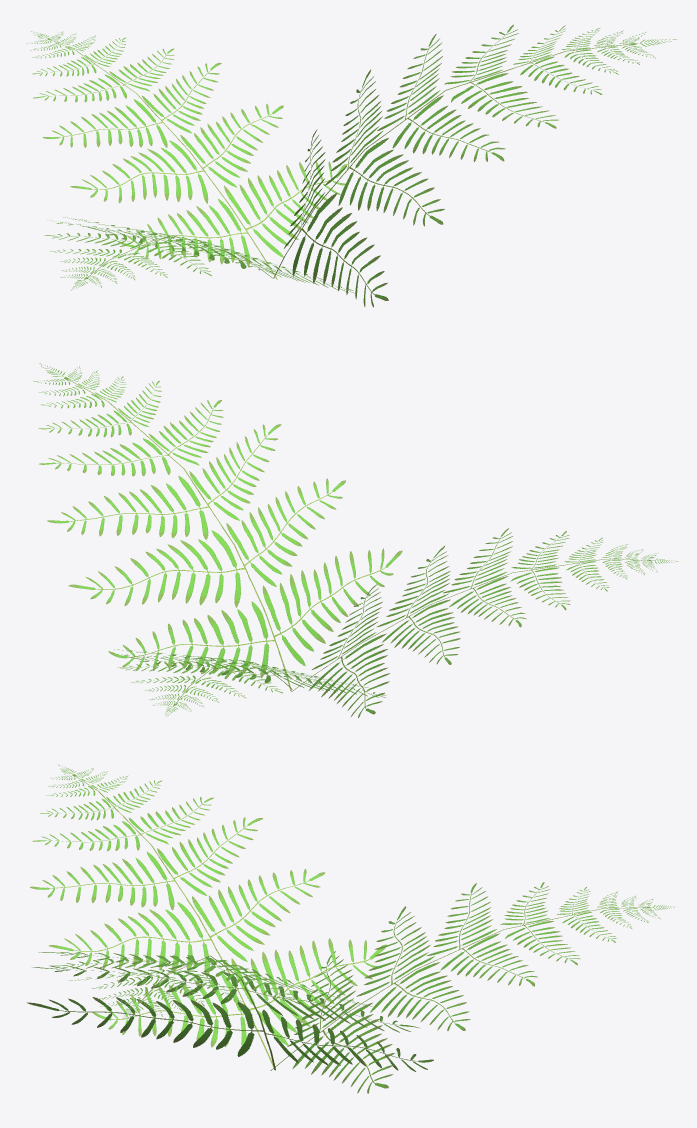
Rendered from SM_Fern_Small_Two.fbx.
The picture shows the model from 3 angles, top to bottom: view 1: azimuth 30°, elevation 25°; view 2: azimuth 150°, elevation 25°; view 3: azimuth 270°, elevation 25°; orthographic projection. The views are drawn at different scales.
Visible parts, largest first — view 1: pPlane11; view 2: pPlane11; view 3: pPlane11.
Part boxes in pixels (bbox=[...]): pPlane11: bbox=[26, 24, 676, 307]; pPlane11: bbox=[33, 363, 678, 717]; pPlane11: bbox=[27, 764, 673, 1093].
Size of the model in its own units: 84.37 by 70.3 by 26.25.
